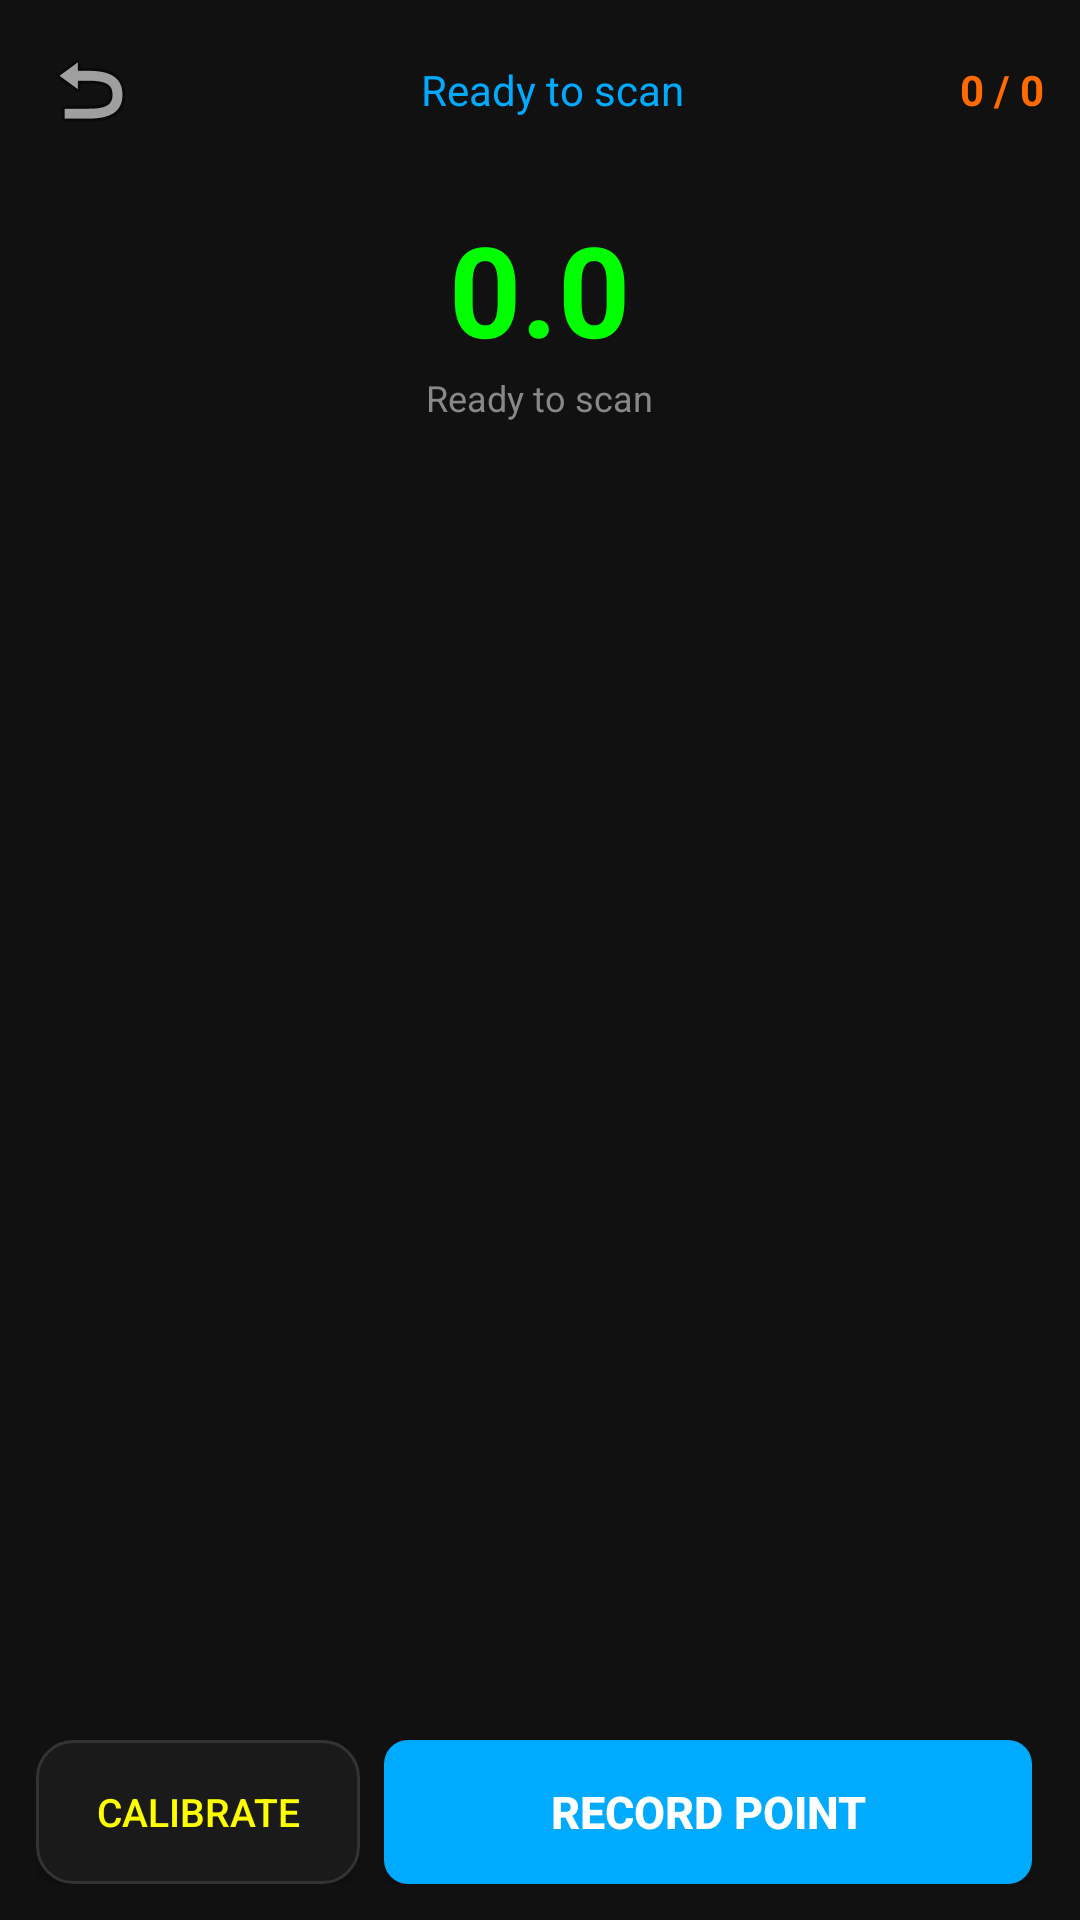

Where icons sit on this 1080*1920 app screen, as (x1, y1, x2, y2):
revert: (60, 62, 123, 119)
